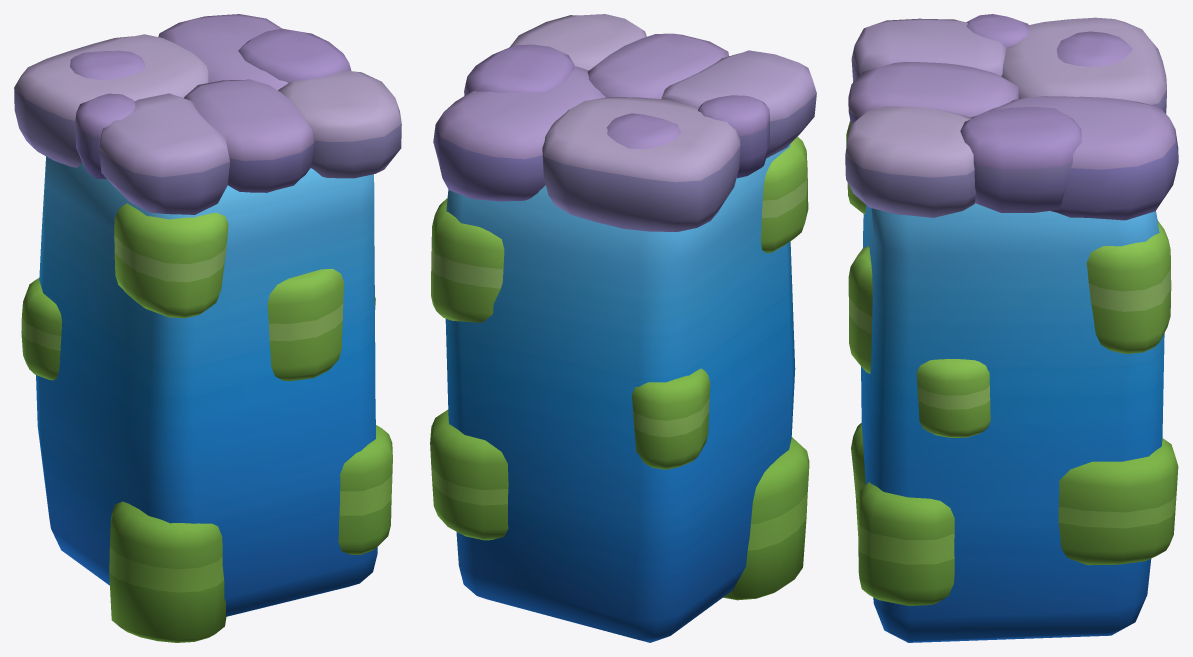
Rendered from Platform_C_01.glb.
The picture shows the model from 3 angles, left to right: view 1: azimuth 30°, elevation 25°; view 2: azimuth 150°, elevation 25°; view 3: azimuth 270°, elevation 25°; orthographic projection. The views are drawn at different scales.
Parts seen in each view (by area): view 1: Platform_C_01; view 2: Platform_C_01; view 3: Platform_C_01.
Boxes of the visible parts, bbox=[...] form: Platform_C_01: bbox=[14, 14, 401, 642]; Platform_C_01: bbox=[430, 14, 816, 642]; Platform_C_01: bbox=[845, 14, 1178, 642].
Size of the model in its own units: 7.05 by 12 by 6.93.
Materials: 1 (1 with a texture image).
